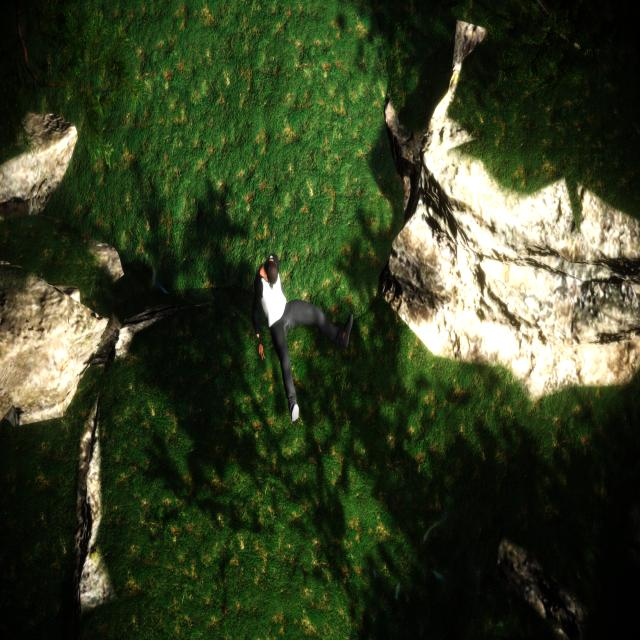Human: (243, 242, 358, 441)
